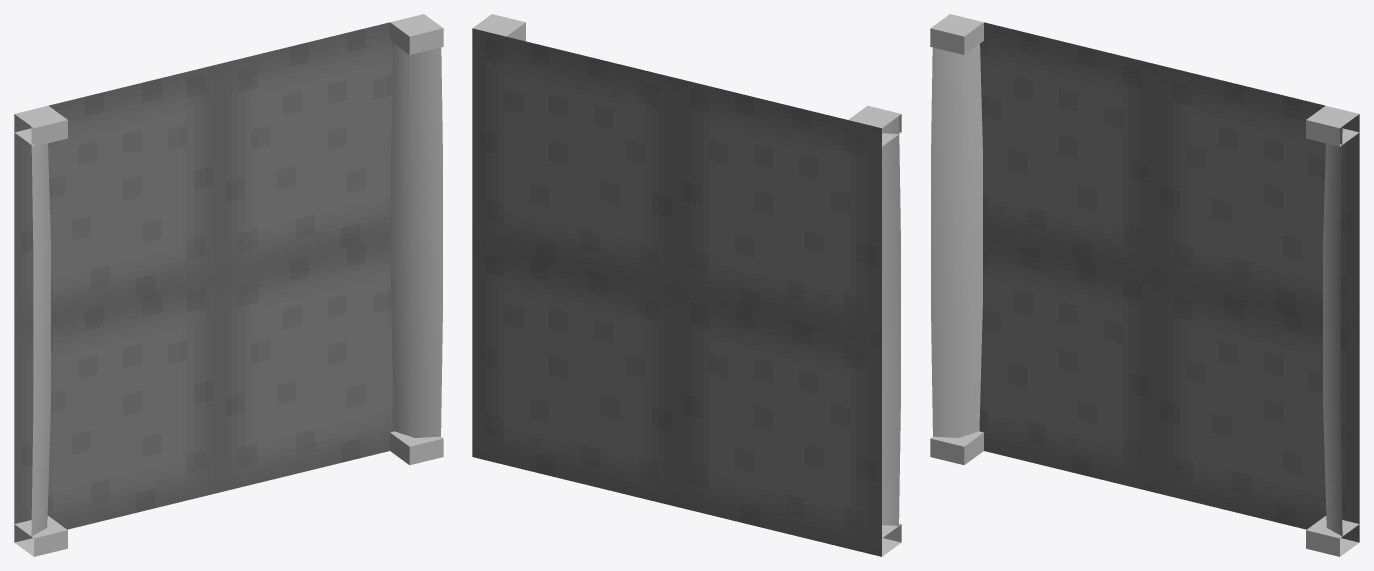
File: wall_hori_column_32x32.obj
3 views of the same model, side by side, from view 1: azimuth 30°, elevation 25°; view 2: azimuth 150°, elevation 25°; view 3: azimuth 330°, elevation 25° (orthographic).
Visible parts, largest first — view 1: Plane.115_Plane.026; view 2: Plane.115_Plane.026; view 3: Plane.115_Plane.026.
Boxes of the visible parts, x1=… form: Plane.115_Plane.026: x1=14, y1=14, x2=443, y2=556; Plane.115_Plane.026: x1=472, y1=14, x2=901, y2=556; Plane.115_Plane.026: x1=930, y1=14, x2=1359, y2=556.
Bounding box in the file's own units: 64 × 64 × 5.31.
